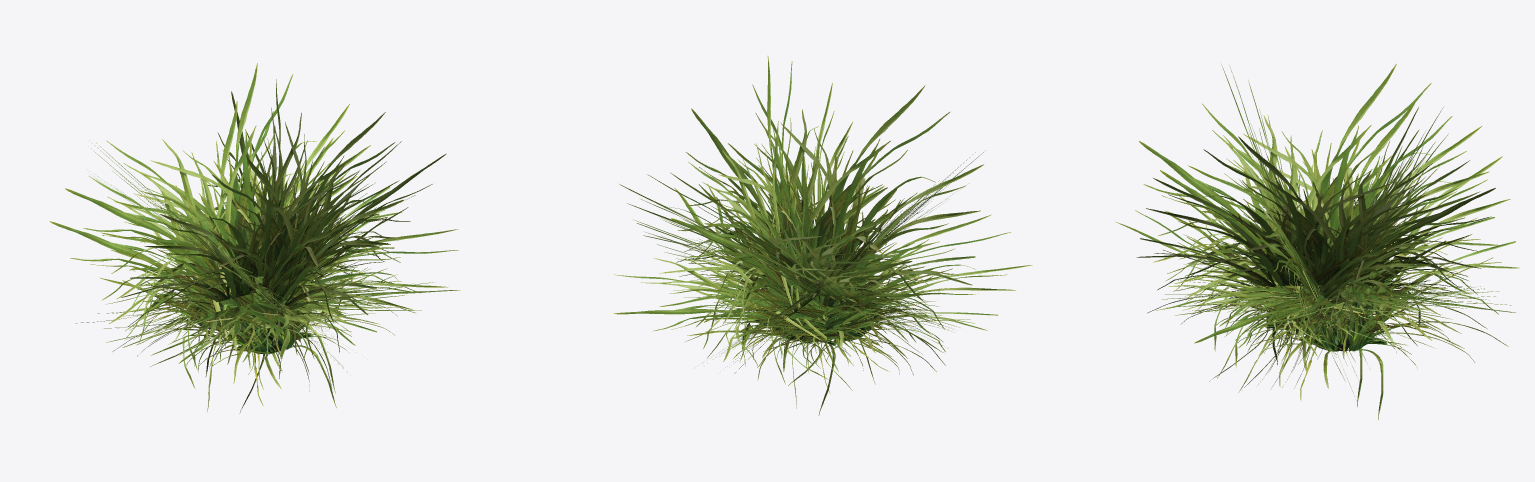
Rendered from Plant_02.FBX.
3 views of the same model, side by side, from view 1: azimuth 30°, elevation 25°; view 2: azimuth 150°, elevation 25°; view 3: azimuth 270°, elevation 25° (orthographic). The views are drawn at different scales.
Visible parts, largest first — view 1: Plane004; view 2: Plane004; view 3: Plane004.
Boxes of the visible parts, x1,y1,x2,y2 form: Plane004: [49, 63, 460, 413]; Plane004: [614, 56, 1032, 415]; Plane004: [1116, 64, 1519, 419].
Size of the model in its own units: 66.01 by 54.38 by 67.57.
